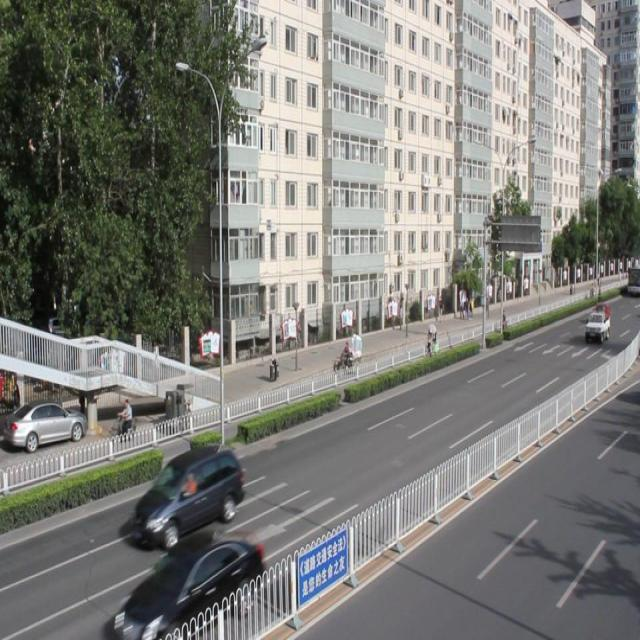car: (117, 527, 263, 640), (132, 444, 243, 544)
